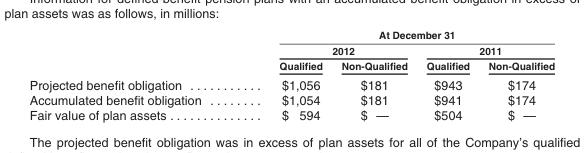table: (28, 28, 554, 122)
table column: (28, 28, 239, 122), (239, 28, 331, 122), (331, 28, 416, 122), (478, 28, 554, 122), (416, 28, 478, 122)
table column header: (28, 28, 554, 74)
table row: (28, 74, 554, 92), (28, 57, 554, 74), (28, 42, 554, 57), (28, 92, 554, 107), (28, 107, 554, 122), (28, 28, 554, 42)
table spanning cell: (239, 28, 554, 42), (239, 42, 416, 57), (416, 42, 554, 57)
